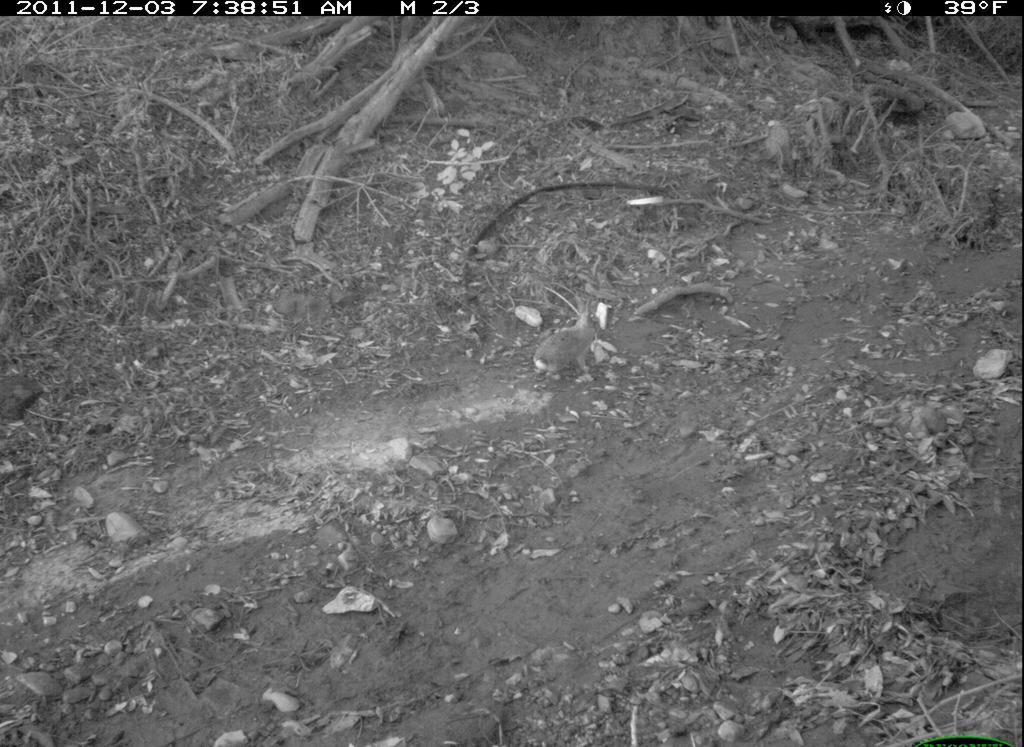rabbit: (514, 290, 611, 395)
